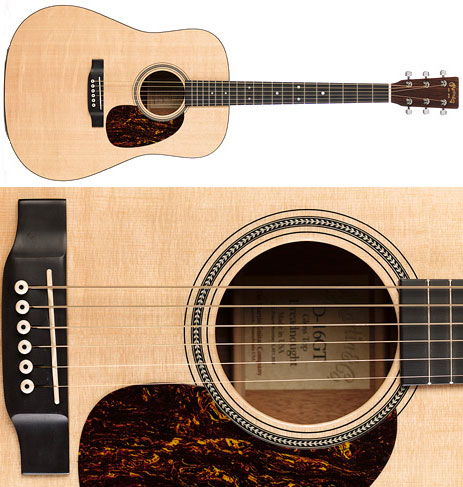guitar: (1, 190, 463, 487), (4, 5, 457, 180)
